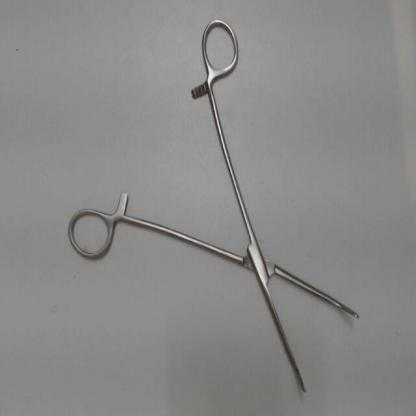Lahey Forceps: (58, 15, 370, 406)
